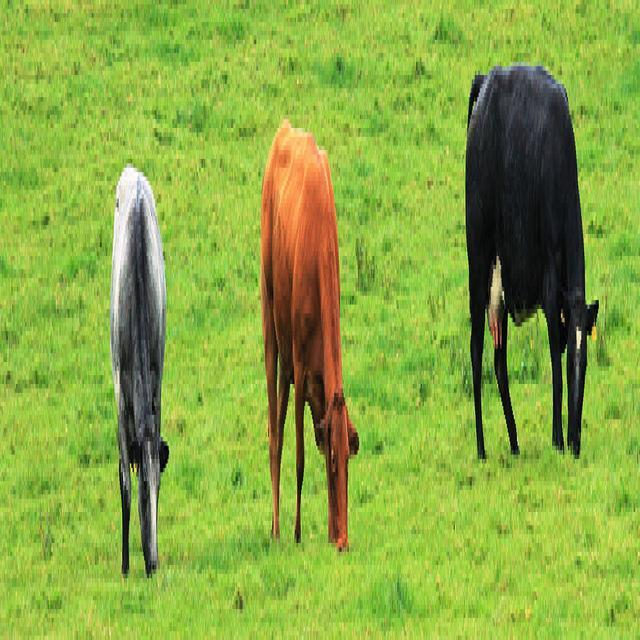cow: (463, 53, 599, 455), (260, 111, 358, 548), (108, 159, 167, 574)
